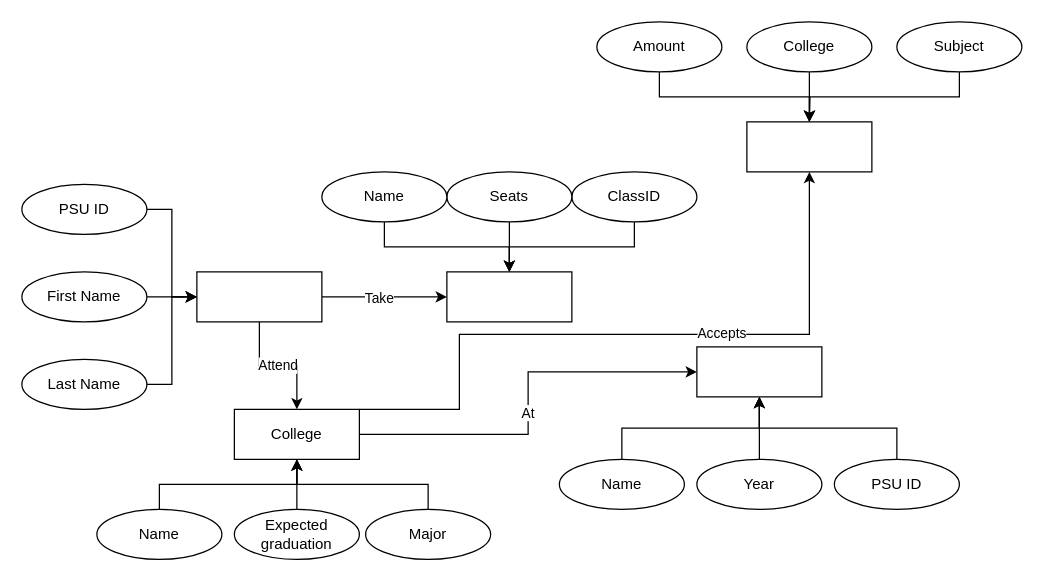
Image size: 1044x581. Some labels were removed from this diagram. The shapes that lost their labels are listed below. From the top down, each one's centre as x and y in pixels, then its label:
the point at 809,146: Transfer Credits
the point at 259,296: Students
the point at 509,296: Classes
the point at 759,371: Campus
